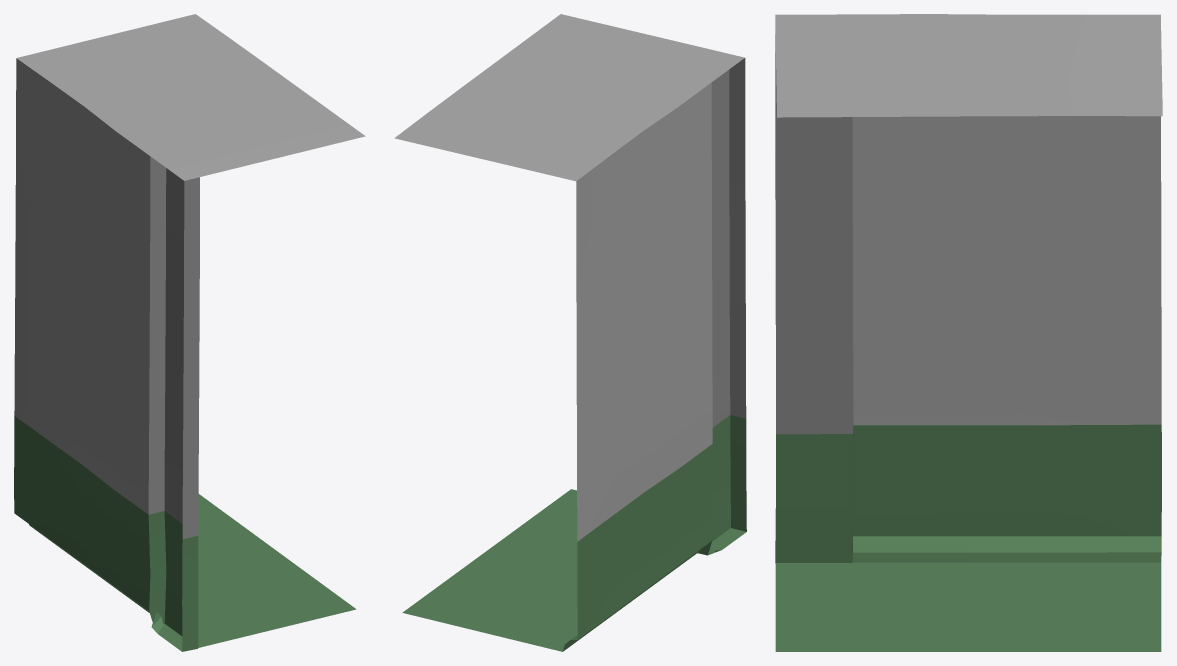
Rendered from Mapa7.fbx.
3 renders of one model, left to right at view 1: azimuth 30°, elevation 25°; view 2: azimuth 150°, elevation 25°; view 3: azimuth 270°, elevation 25°, orthographic. The views are drawn at different scales.
Visible parts, largest first — view 1: pPlane3; view 2: pPlane3; view 3: pPlane3.
Part boxes in pixels (x1,y1,x2,y2): pPlane3: [14, 14, 365, 651]; pPlane3: [394, 14, 746, 651]; pPlane3: [775, 14, 1162, 651].
Size of the model in its own units: 20.48 by 50 by 32.44.
